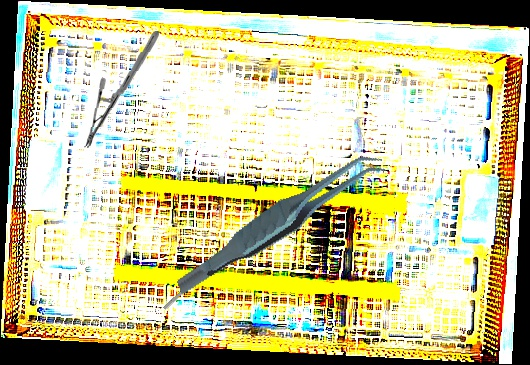Needle Holder: (84, 27, 160, 152)
Pusher: (162, 225, 254, 311)
Tissue Forceps: (157, 149, 403, 296)
